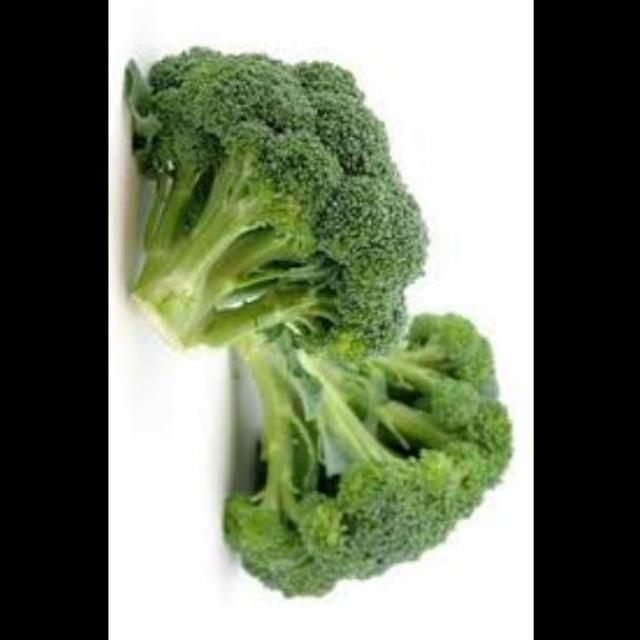Broccoli: (114, 44, 443, 362), (218, 276, 522, 610)
